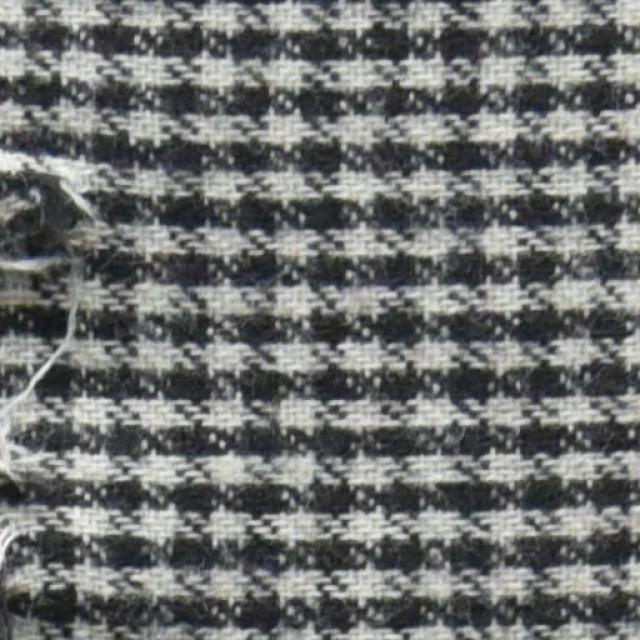Snag: (0, 150, 109, 489)
